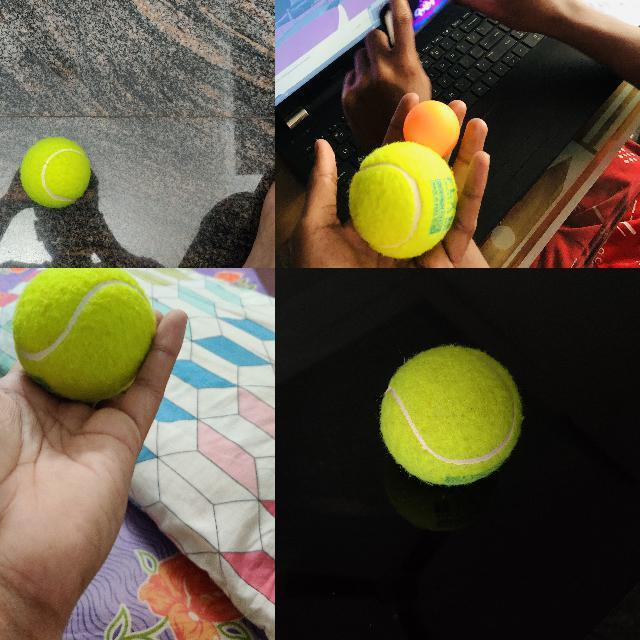tennis-ball: (379, 345, 524, 485), (13, 268, 155, 399), (349, 142, 457, 257), (20, 136, 90, 208)
